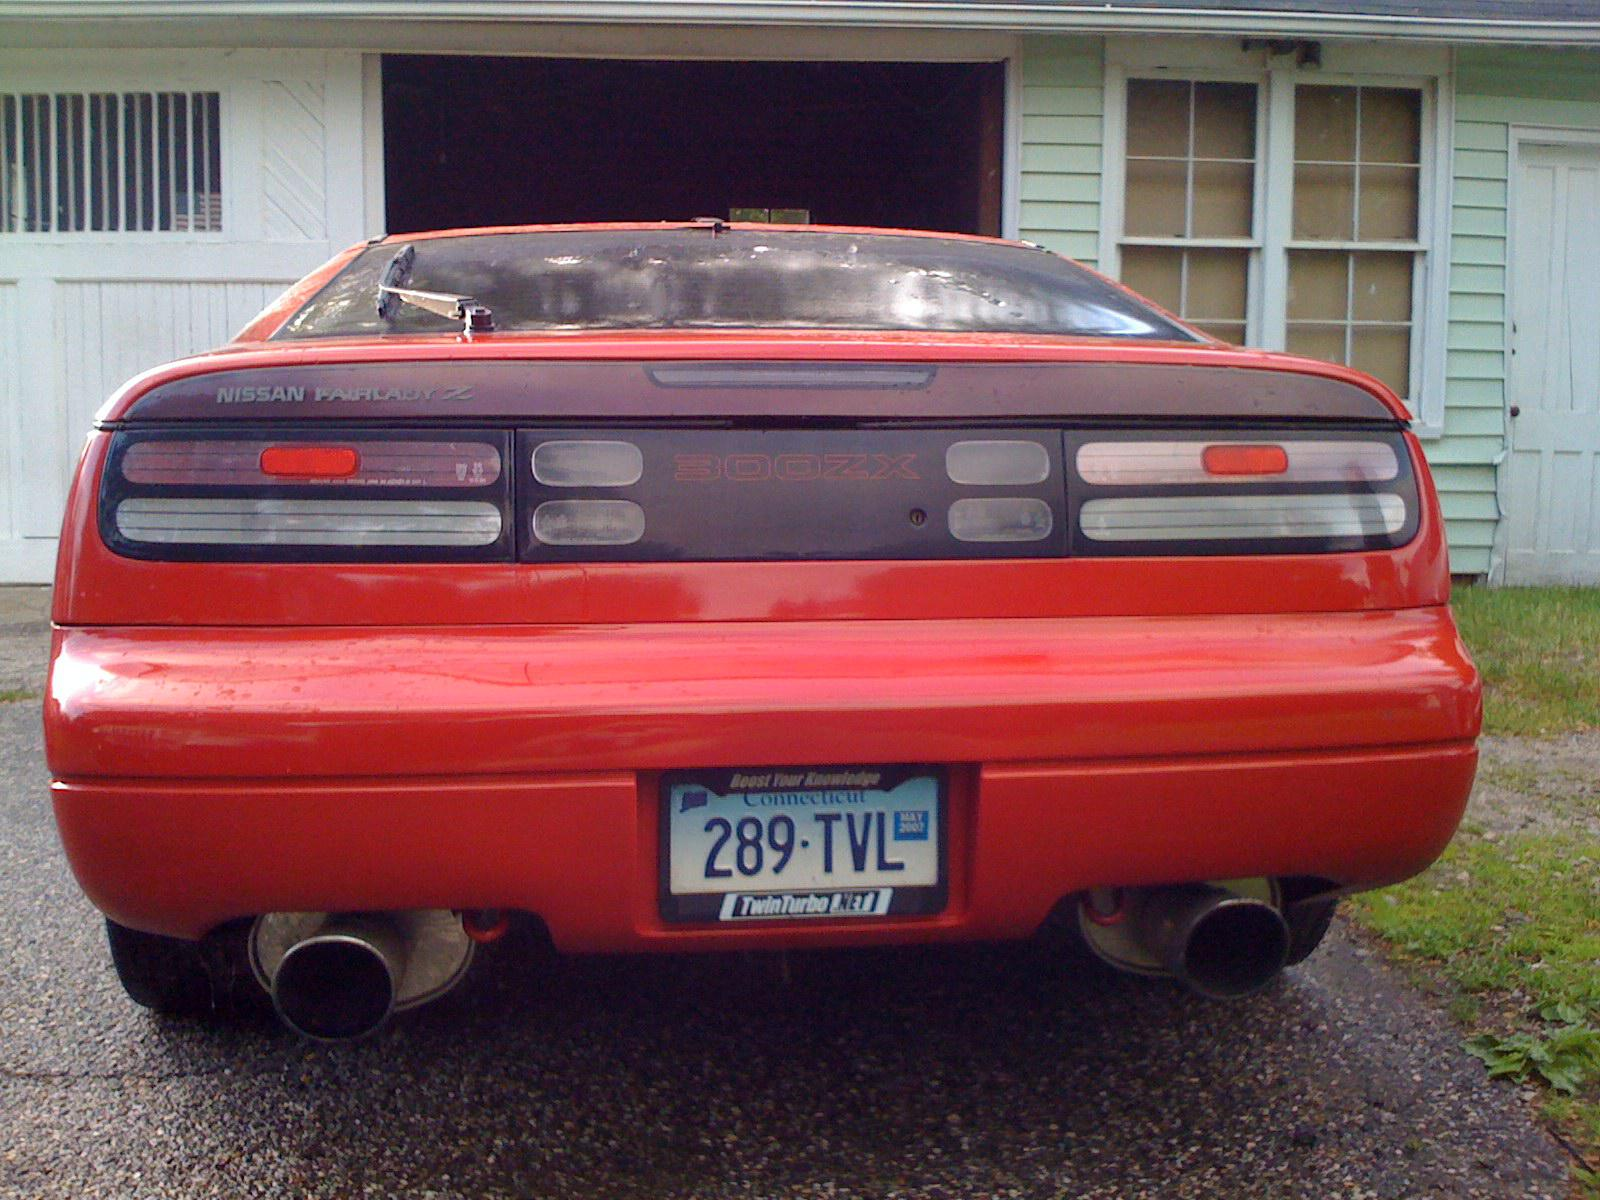Rear-windscreen-Damage: (368, 217, 1087, 353)
